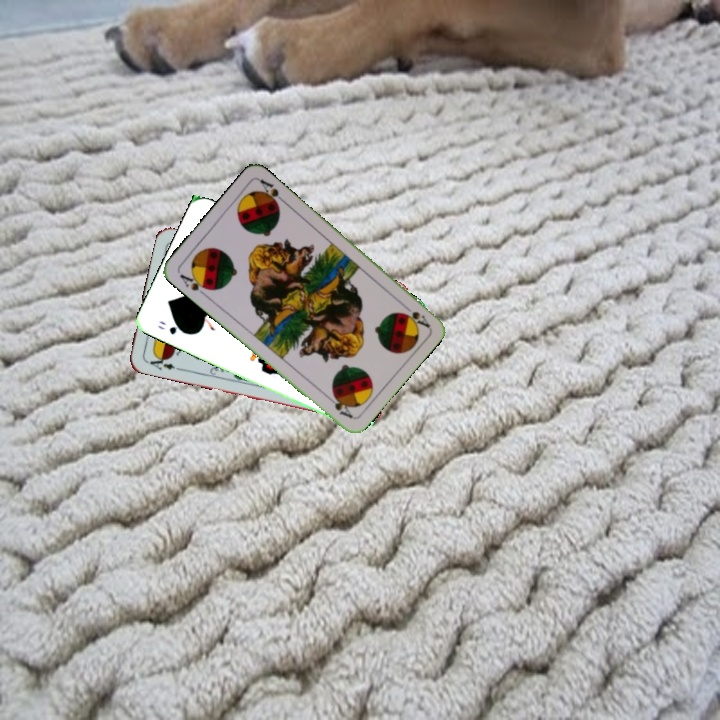EA: (142, 351, 182, 373)
GO: (154, 317, 190, 337)
SA: (175, 269, 214, 299), (398, 299, 432, 330)
